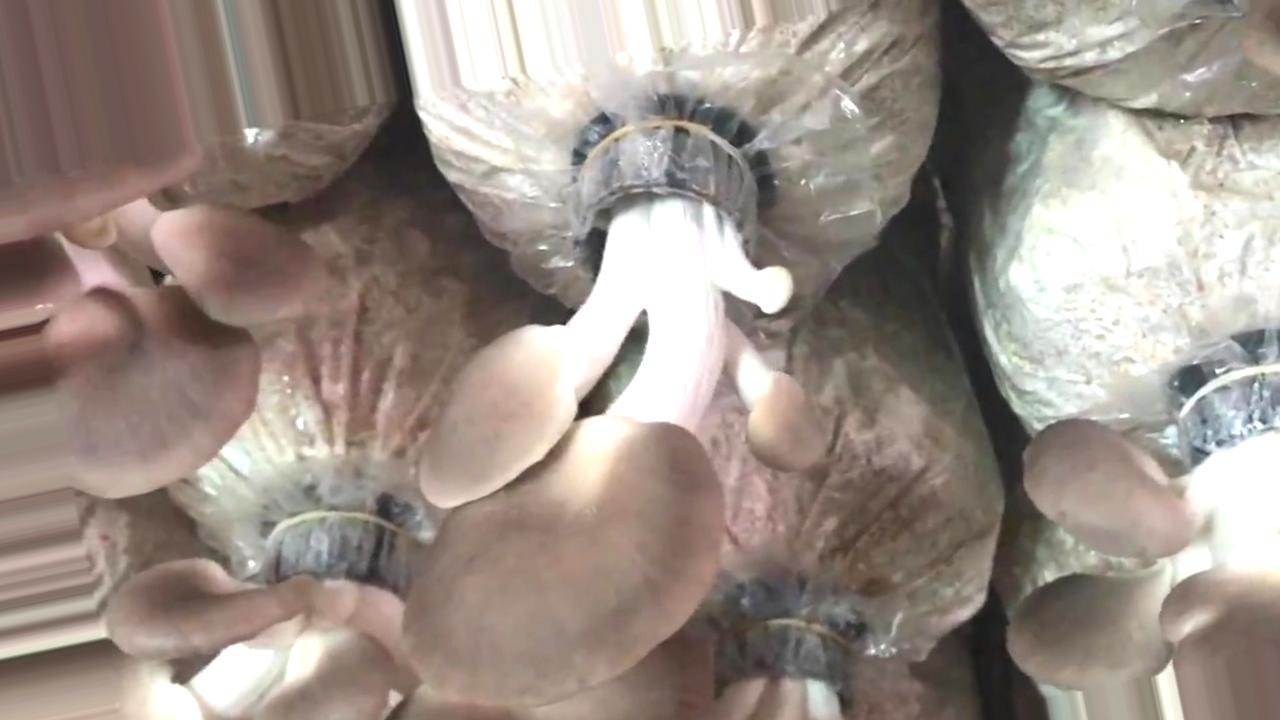nam: (400, 110, 828, 707), (1, 1, 323, 505), (149, 512, 718, 720), (1005, 353, 1280, 717)
